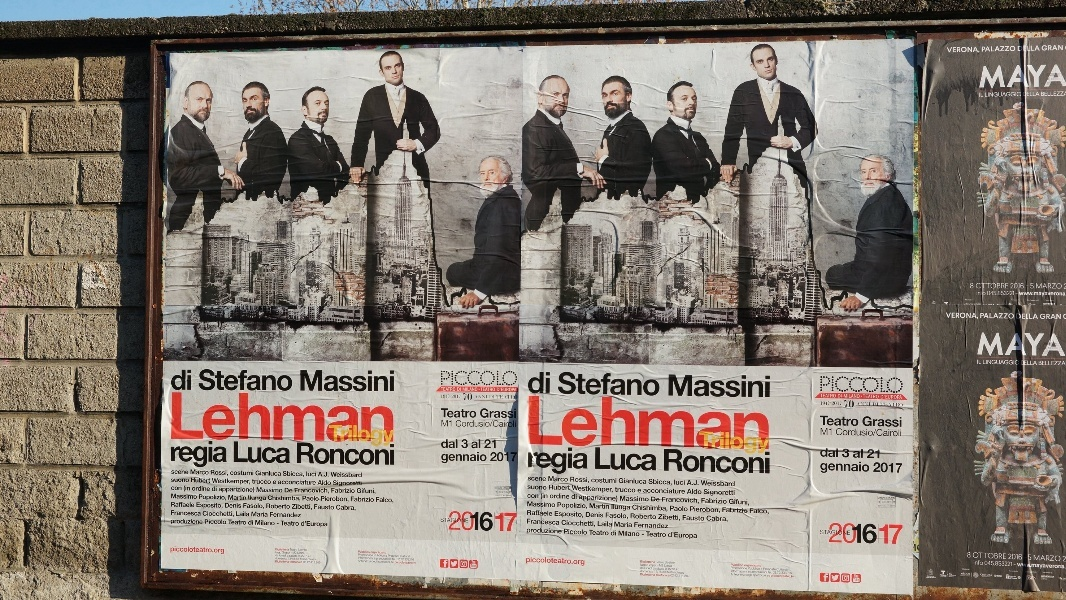text: (529, 396, 544, 450), (545, 396, 560, 450), (561, 396, 576, 450), (577, 396, 592, 450), (593, 396, 608, 450), (609, 396, 624, 450), (625, 396, 640, 450), (641, 396, 656, 450), (657, 396, 672, 450), (673, 396, 688, 450), (689, 396, 704, 450), (705, 396, 720, 450), (721, 396, 736, 450), (737, 396, 752, 450), (753, 396, 768, 450), (177, 392, 192, 443), (193, 392, 208, 443), (209, 392, 224, 443), (225, 392, 240, 443), (241, 392, 256, 443), (257, 392, 272, 443), (273, 392, 288, 443), (289, 392, 304, 443), (305, 392, 320, 443), (321, 392, 336, 443), (337, 392, 352, 443), (353, 392, 368, 443), (369, 392, 384, 443), (385, 392, 396, 443), (529, 447, 544, 476), (545, 447, 560, 476), (561, 447, 576, 476), (177, 441, 192, 469), (193, 441, 208, 469), (209, 441, 224, 469), (641, 447, 657, 472), (673, 449, 688, 475), (689, 449, 704, 475), (705, 449, 720, 475), (721, 449, 736, 475), (737, 449, 752, 475), (753, 449, 768, 475), (993, 64, 1008, 90), (1009, 64, 1024, 90), (1025, 64, 1040, 90), (1041, 64, 1056, 90), (753, 431, 769, 455), (561, 373, 576, 398), (577, 373, 592, 398), (593, 373, 608, 398), (609, 373, 624, 398), (625, 373, 640, 398), (641, 373, 656, 398), (609, 447, 624, 472), (625, 447, 640, 472), (705, 431, 720, 455), (721, 431, 736, 455), (737, 431, 752, 455), (577, 447, 589, 476), (209, 368, 224, 391), (225, 368, 240, 391), (241, 368, 256, 391), (257, 368, 272, 391), (273, 368, 288, 391), (673, 375, 688, 398), (689, 375, 704, 398), (705, 375, 720, 398), (721, 375, 736, 398), (737, 375, 752, 398), (753, 375, 768, 398), (305, 443, 320, 466), (321, 443, 336, 466), (337, 443, 352, 466), (353, 443, 368, 466), (369, 443, 384, 466), (993, 333, 1008, 356), (1009, 333, 1024, 356), (1025, 333, 1040, 356), (1041, 333, 1056, 356), (177, 369, 193, 390), (305, 371, 320, 393), (321, 371, 336, 393), (337, 371, 352, 393), (353, 371, 368, 393), (369, 371, 384, 393), (529, 372, 544, 394), (337, 425, 352, 447), (353, 425, 368, 447), (369, 425, 384, 447), (241, 442, 256, 464), (257, 442, 272, 464), (273, 442, 288, 464), (833, 523, 848, 545), (849, 523, 864, 545), (465, 510, 480, 532), (481, 510, 496, 532), (497, 510, 512, 532), (595, 447, 608, 472), (881, 524, 896, 545), (450, 510, 464, 532), (833, 376, 848, 394), (849, 376, 864, 394), (865, 376, 880, 394), (881, 376, 896, 394), (865, 523, 877, 545), (171, 392, 176, 443), (641, 561, 656, 578), (657, 561, 672, 578), (673, 561, 688, 578), (385, 371, 396, 393), (983, 64, 992, 90), (1057, 64, 1066, 90), (982, 333, 992, 356), (449, 371, 464, 386), (465, 371, 480, 386), (481, 371, 496, 386), (497, 371, 512, 386), (289, 549, 304, 564), (305, 549, 320, 564), (369, 551, 384, 565), (385, 551, 400, 565), (401, 551, 416, 565), (737, 564, 752, 578), (753, 564, 768, 578), (769, 564, 784, 578), (945, 567, 960, 581), (961, 567, 976, 581), (977, 567, 992, 581), (993, 567, 1008, 581), (1009, 567, 1024, 581), (1025, 567, 1040, 581), (1041, 567, 1056, 581), (664, 449, 672, 475), (199, 368, 208, 391), (385, 443, 394, 466), (1057, 333, 1066, 356), (821, 376, 832, 394), (385, 425, 394, 447), (275, 549, 288, 564), (449, 452, 464, 465), (465, 452, 480, 465), (833, 415, 848, 427), (865, 416, 880, 428), (881, 416, 896, 428), (833, 462, 848, 474), (849, 462, 864, 474), (328, 425, 336, 447), (785, 564, 797, 578), (449, 408, 464, 419), (481, 408, 496, 419), (497, 408, 512, 419), (297, 443, 304, 466), (233, 442, 240, 464), (497, 452, 512, 462), (529, 557, 544, 567), (545, 557, 560, 567), (561, 557, 576, 567), (881, 463, 896, 473), (881, 497, 896, 507), (209, 546, 225, 555), (698, 431, 704, 455), (820, 415, 832, 427), (171, 441, 176, 469), (358, 551, 368, 565), (930, 569, 944, 579), (439, 371, 448, 386), (177, 546, 192, 555), (193, 546, 208, 555), (577, 485, 592, 494), (593, 485, 608, 494), (849, 428, 864, 437), (865, 428, 880, 437), (881, 428, 896, 437), (465, 408, 477, 419), (821, 462, 832, 474), (705, 506, 721, 514), (897, 524, 903, 545), (1057, 567, 1066, 581), (497, 487, 511, 496), (225, 478, 240, 486), (209, 494, 224, 502), (465, 420, 480, 428), (481, 420, 496, 428), (497, 420, 512, 428), (705, 489, 720, 497), (593, 495, 608, 503), (561, 502, 576, 510), (561, 511, 576, 519), (577, 520, 592, 528), (849, 415, 859, 427), (868, 449, 880, 459), (945, 298, 960, 306), (961, 298, 976, 306), (977, 298, 992, 306), (993, 298, 1008, 306), (1009, 298, 1024, 306), (1025, 298, 1040, 306), (1041, 298, 1056, 306), (977, 552, 992, 560), (209, 502, 223, 510), (657, 479, 673, 486), (721, 489, 735, 497), (641, 513, 657, 520), (562, 520, 576, 528), (993, 552, 1007, 560), (299, 371, 304, 393), (545, 372, 550, 394), (821, 448, 832, 458), (853, 449, 864, 459), (897, 376, 903, 394), (257, 487, 272, 494), (225, 487, 240, 494), (321, 496, 336, 503), (273, 503, 288, 510), (337, 505, 352, 512), (177, 510, 192, 517), (209, 511, 224, 518), (305, 521, 320, 528), (625, 478, 640, 485), (705, 480, 720, 487), (721, 480, 736, 487), (657, 488, 672, 495), (625, 496, 640, 503), (673, 497, 688, 504), (705, 498, 720, 505), (593, 503, 608, 510), (641, 505, 656, 512), (753, 508, 768, 515), (529, 510, 544, 517), (609, 513, 624, 520), (529, 519, 544, 526), (545, 519, 560, 526), (641, 522, 656, 529), (529, 528, 544, 535), (545, 528, 560, 535), (673, 533, 688, 540), (961, 47, 976, 54), (1041, 283, 1056, 290), (961, 313, 976, 320), (1041, 555, 1056, 562), (449, 517, 464, 524), (579, 495, 592, 503), (737, 499, 750, 507), (611, 504, 624, 512), (691, 506, 704, 514), (485, 440, 496, 449), (837, 428, 848, 437), (241, 487, 255, 494), (321, 504, 335, 511), (1025, 313, 1039, 320), (193, 469, 209, 475), (289, 471, 305, 477), (212, 478, 224, 486), (196, 502, 208, 510), (689, 515, 705, 521), (593, 530, 609, 536), (1025, 46, 1041, 52), (993, 283, 1009, 289), (668, 375, 672, 398), (441, 452, 448, 465), (577, 477, 590, 484), (673, 488, 686, 495), (723, 507, 736, 514), (659, 515, 672, 522), (707, 516, 720, 523), (947, 47, 960, 54), (947, 313, 960, 320), (257, 471, 272, 477), (337, 472, 352, 478), (193, 478, 208, 484), (289, 480, 304, 486), (337, 480, 352, 486), (305, 488, 320, 494), (337, 488, 352, 494), (193, 486, 208, 492), (177, 494, 192, 500), (273, 496, 288, 502), (353, 497, 368, 503), (177, 502, 192, 508), (225, 503, 240, 509), (273, 512, 288, 518), (177, 519, 192, 525), (209, 519, 224, 525), (257, 520, 272, 526), (449, 439, 458, 449), (471, 439, 480, 449), (593, 478, 608, 484), (529, 502, 544, 508), (673, 506, 688, 512), (625, 531, 640, 537), (833, 530, 848, 536), (993, 46, 1008, 52), (977, 283, 992, 289), (993, 313, 1008, 319), (1041, 314, 1056, 320), (1009, 554, 1024, 560), (993, 561, 1008, 567), (1025, 564, 1040, 570), (1041, 564, 1056, 570), (577, 502, 588, 510), (821, 428, 832, 436), (513, 510, 517, 532), (225, 441, 228, 469), (257, 479, 271, 485), (305, 496, 319, 502), (337, 496, 349, 503), (244, 503, 256, 510), (292, 504, 304, 511), (674, 480, 688, 486), (644, 488, 656, 495), (657, 522, 669, 529), (564, 529, 576, 536), (1042, 45, 1056, 51), (241, 478, 251, 486), (577, 557, 585, 567), (1025, 92, 1041, 97), (211, 470, 224, 476), (481, 452, 487, 465), (689, 489, 702, 495), (1011, 283, 1024, 289), (357, 488, 368, 495), (441, 408, 448, 419), (657, 505, 668, 512), (737, 507, 748, 514), (593, 512, 604, 519), (597, 521, 608, 528), (513, 371, 518, 386), (657, 373, 660, 398), (497, 395, 512, 400), (529, 477, 544, 482), (529, 486, 544, 491), (993, 93, 1008, 98), (1041, 92, 1056, 97), (977, 291, 992, 296), (993, 291, 1008, 296), (993, 360, 1008, 365), (1041, 361, 1056, 366), (212, 486, 224, 492), (199, 494, 208, 502), (289, 496, 301, 502), (289, 512, 301, 518), (228, 520, 240, 526), (609, 495, 618, 503), (820, 530, 832, 536), (897, 416, 903, 428), (1057, 298, 1066, 306), (306, 472, 320, 477), (273, 487, 283, 494), (441, 439, 448, 449), (662, 497, 672, 504), (689, 497, 699, 504), (577, 529, 587, 536), (731, 564, 736, 578), (978, 359, 992, 364), (289, 368, 292, 391), (305, 480, 316, 486), (229, 495, 240, 501), (257, 512, 268, 518), (289, 521, 300, 527), (549, 476, 560, 482), (689, 480, 700, 486), (549, 485, 560, 491), (545, 502, 556, 508), (829, 523, 832, 545), (981, 313, 992, 319), (1029, 555, 1040, 561), (241, 471, 254, 476), (611, 531, 624, 536), (1009, 93, 1022, 98), (1025, 360, 1038, 365), (465, 393, 473, 401), (456, 420, 464, 428), (824, 574, 832, 582), (173, 369, 176, 390), (257, 495, 266, 502), (375, 497, 384, 504), (385, 497, 394, 504), (225, 511, 234, 518), (631, 513, 640, 520), (273, 481, 288, 485), (278, 480, 288, 486), (321, 480, 331, 486), (294, 488, 304, 494), (193, 519, 203, 525), (481, 388, 496, 392), (497, 388, 512, 392), (561, 485, 571, 491), (550, 494, 560, 500), (657, 532, 667, 538), (881, 395, 896, 399), (881, 403, 896, 407), (833, 448, 839, 458), (865, 462, 870, 474), (874, 463, 880, 473), (897, 463, 903, 473), (982, 46, 992, 52), (980, 93, 992, 98), (1025, 293, 1040, 297), (1041, 293, 1056, 297), (248, 495, 256, 502), (257, 503, 265, 510), (305, 504, 313, 511), (193, 510, 201, 517), (441, 420, 448, 428), (641, 496, 649, 503), (729, 499, 736, 507), (545, 510, 553, 517), (577, 511, 584, 519), (673, 515, 681, 522), (721, 516, 729, 523), (689, 533, 697, 540), (865, 395, 879, 399), (625, 488, 636, 493), (849, 394, 860, 399), (1009, 360, 1020, 365), (353, 472, 362, 478), (353, 480, 362, 486), (321, 488, 330, 494), (241, 512, 250, 518), (769, 396, 770, 450), (561, 494, 570, 500), (615, 522, 624, 528), (647, 532, 656, 538), (849, 400, 855, 409), (1031, 283, 1040, 289), (1057, 564, 1066, 570), (465, 388, 478, 392), (769, 449, 771, 475), (689, 561, 692, 578), (230, 471, 240, 476), (491, 452, 496, 462), (529, 494, 539, 499), (838, 394, 848, 399), (843, 449, 848, 459), (369, 488, 376, 495), (321, 521, 328, 528), (649, 479, 656, 486), (633, 505, 640, 512), (1017, 313, 1024, 320), (441, 517, 448, 524), (177, 471, 189, 475), (273, 471, 281, 477), (184, 486, 192, 492), (452, 395, 464, 399), (561, 476, 569, 482), (609, 478, 617, 484), (625, 504, 631, 512), (625, 522, 633, 528), (968, 553, 976, 559), (769, 375, 771, 398), (171, 546, 176, 555), (609, 485, 614, 494), (615, 488, 624, 493), (897, 428, 902, 437), (1057, 92, 1066, 97), (983, 360, 992, 365), (1057, 361, 1066, 366), (443, 560, 448, 569), (513, 408, 517, 419), (821, 394, 832, 398), (821, 402, 832, 406), (266, 503, 272, 510), (314, 504, 320, 511), (281, 521, 288, 527), (570, 477, 576, 484), (641, 478, 647, 485), (721, 498, 727, 505), (586, 512, 592, 519), (634, 522, 640, 529), (1009, 46, 1016, 52), (1057, 45, 1064, 51), (1034, 555, 1040, 562), (985, 561, 992, 567), (321, 472, 329, 477), (513, 452, 517, 462), (555, 511, 560, 519), (886, 395, 896, 399), (177, 479, 189, 482), (241, 495, 247, 501), (241, 520, 247, 526), (572, 485, 576, 494), (833, 402, 842, 406), (844, 400, 848, 409), (1018, 46, 1024, 52), (1057, 293, 1066, 297), (1009, 313, 1015, 319), (1018, 564, 1024, 570), (471, 565, 480, 569), (219, 487, 224, 494), (171, 510, 176, 517), (203, 511, 208, 518), (249, 520, 256, 525), (619, 478, 624, 485), (857, 402, 864, 407), (873, 402, 880, 407), (1057, 283, 1062, 290), (977, 561, 984, 566), (513, 420, 517, 428), (283, 471, 288, 477), (331, 472, 336, 478), (331, 488, 336, 494), (171, 494, 176, 500), (369, 497, 374, 503), (171, 502, 176, 508), (171, 519, 176, 525), (321, 549, 323, 564), (465, 439, 468, 449), (683, 515, 688, 521), (619, 531, 624, 537), (854, 575, 864, 578), (854, 579, 864, 582), (865, 402, 871, 407), (986, 93, 992, 98), (971, 283, 976, 289), (1009, 291, 1015, 296), (1057, 314, 1062, 320), (353, 505, 357, 512), (457, 388, 464, 392), (441, 395, 448, 399), (481, 395, 488, 399), (620, 496, 624, 503), (625, 513, 629, 520), (609, 521, 613, 528), (977, 47, 981, 54), (1057, 555, 1061, 562), (942, 567, 944, 581), (465, 517, 469, 524), (559, 373, 560, 398), (171, 486, 176, 491), (177, 486, 182, 491), (513, 395, 518, 400), (651, 497, 656, 502), (987, 291, 992, 296), (440, 388, 448, 391), (225, 470, 229, 476), (252, 479, 256, 485), (193, 494, 197, 500), (268, 496, 272, 502), (236, 512, 240, 518), (252, 512, 256, 518), (490, 395, 496, 399), (449, 420, 452, 428), (572, 494, 576, 500), (593, 520, 596, 528), (897, 395, 903, 399), (897, 403, 903, 407), (1009, 561, 1013, 567), (472, 561, 480, 564), (289, 442, 290, 464), (449, 388, 456, 391), (301, 521, 304, 528), (701, 480, 704, 487), (541, 493, 544, 500), (545, 493, 548, 500), (669, 533, 672, 540), (879, 524, 880, 545), (1037, 283, 1040, 290), (171, 471, 176, 475), (475, 395, 480, 399), (462, 439, 464, 449), (526, 557, 528, 567), (844, 394, 848, 399), (333, 480, 336, 486), (205, 519, 208, 525), (589, 530, 592, 536), (1063, 556, 1066, 562), (225, 494, 227, 502), (513, 388, 517, 392), (558, 502, 560, 510), (833, 394, 837, 398), (1016, 293, 1024, 295), (1020, 293, 1024, 297), (974, 552, 976, 560), (171, 479, 176, 482), (285, 488, 288, 493), (289, 488, 292, 493), (657, 497, 660, 502), (1021, 360, 1024, 365), (417, 551, 418, 565), (702, 498, 704, 505), (590, 503, 592, 510), (750, 508, 752, 515), (606, 513, 608, 520), (642, 534, 656, 535), (1026, 286, 1040, 287), (977, 313, 979, 320), (190, 469, 192, 475), (190, 478, 192, 484), (209, 478, 211, 484), (353, 488, 355, 494), (302, 496, 304, 502), (350, 497, 352, 503), (193, 502, 195, 508), (270, 512, 272, 518), (225, 519, 227, 525), (273, 520, 275, 526), (670, 506, 672, 512), (849, 530, 851, 536), (863, 416, 864, 428), (1064, 284, 1066, 290), (1064, 314, 1066, 320), (545, 477, 547, 482), (545, 486, 547, 491), (638, 489, 640, 494), (849, 449, 850, 459), (879, 497, 880, 507), (974, 561, 976, 566), (1014, 565, 1024, 566), (495, 487, 496, 496), (463, 393, 464, 401), (289, 503, 290, 510), (609, 503, 610, 510), (769, 508, 770, 515), (527, 510, 528, 517), (527, 519, 528, 526), (527, 528, 528, 535), (561, 528, 562, 535), (319, 480, 320, 486), (209, 486, 210, 492), (241, 503, 242, 509), (255, 520, 256, 526), (577, 494, 578, 500), (527, 502, 528, 508), (319, 472, 320, 477), (527, 486, 528, 491), (641, 489, 642, 494), (1023, 92, 1024, 97), (1039, 361, 1040, 366), (463, 388, 464, 392), (449, 395, 450, 399), (863, 395, 864, 399)
